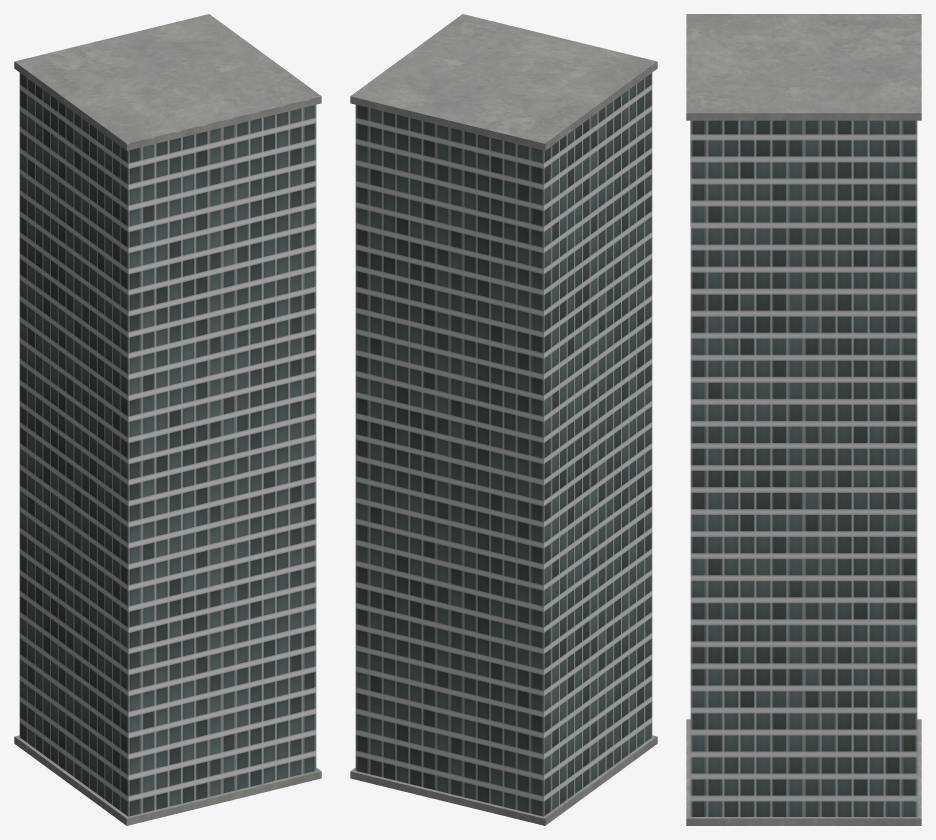
Rendered from building.tower_03_1.glb.
The picture shows the model from 3 angles, left to right: view 1: azimuth 30°, elevation 25°; view 2: azimuth 150°, elevation 25°; view 3: azimuth 270°, elevation 25°; orthographic projection. The views are drawn at different scales.
Parts seen in each view (by area): view 1: building_031; view 2: building_031; view 3: building_031.
Part boxes in pixels (x1,y1,x2,y2): building_031: (14, 14, 321, 825); building_031: (350, 14, 657, 825); building_031: (686, 14, 921, 825).
Bounding box in the file's own units: 29 × 97 × 29.
1 material, 1 textured.
